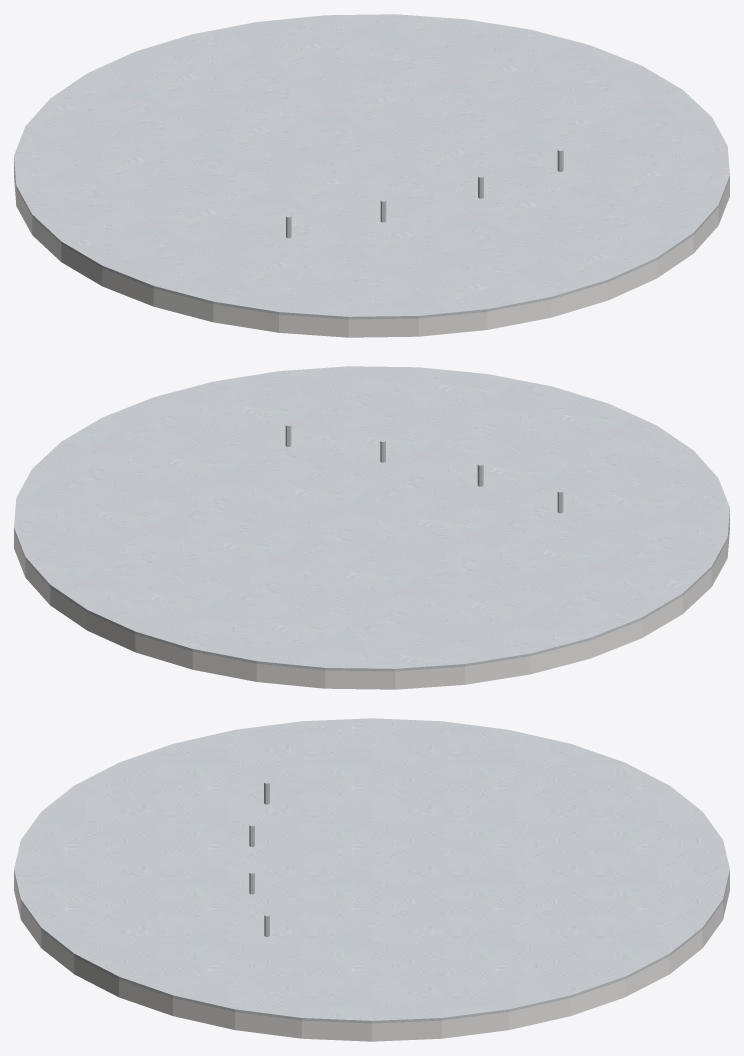
3 views of the same model, one above another, from view 1: azimuth 30°, elevation 25°; view 2: azimuth 150°, elevation 25°; view 3: azimuth 270°, elevation 25° (orthographic).
Visible parts, largest first — view 1: Decor_mannequin_podium_wide; view 2: Decor_mannequin_podium_wide; view 3: Decor_mannequin_podium_wide.
Part boxes in pixels (x1,y1,x2,y2): Decor_mannequin_podium_wide: (14, 14, 729, 337); Decor_mannequin_podium_wide: (14, 366, 729, 689); Decor_mannequin_podium_wide: (14, 718, 729, 1041).
Size of the model in its own units: 5 by 0.3201 by 5.
2 materials, 2 textured.
